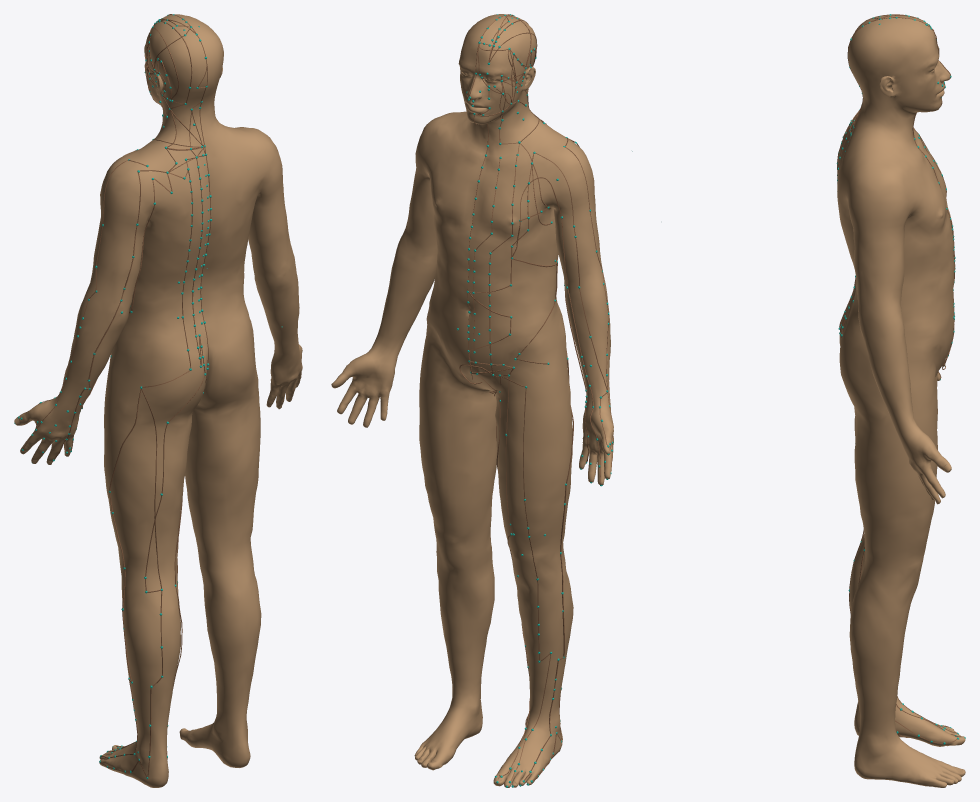
The model's file is acupoint.glb.
The picture shows the model from 3 angles, left to right: view 1: azimuth 30°, elevation 25°; view 2: azimuth 150°, elevation 25°; view 3: azimuth 270°, elevation 25°; orthographic projection.
Visible parts, largest first — view 1: body_shell, mer_BL_L, mer_GB_L, mer_SJ_L; view 2: body_shell, mer_GB_L, mer_ST_L, mer_SP_L; view 3: body_shell.
Boxes of the visible parts, x1=… form: body_shell: x1=14, y1=14, x2=302, y2=787; mer_BL_L: x1=100, y1=18, x2=206, y2=777; mer_GB_L: x1=101, y1=21, x2=204, y2=758; mer_SJ_L: x1=54, y1=43, x2=204, y2=459; body_shell: x1=331, y1=14, x2=613, y2=787; mer_GB_L: x1=459, y1=20, x2=573, y2=780; mer_ST_L: x1=475, y1=44, x2=550, y2=780; mer_SP_L: x1=468, y1=164, x2=551, y2=775; body_shell: x1=837, y1=15, x2=965, y2=787.
Size of the model in its own units: 0.6734 by 1.7 by 0.6309.
